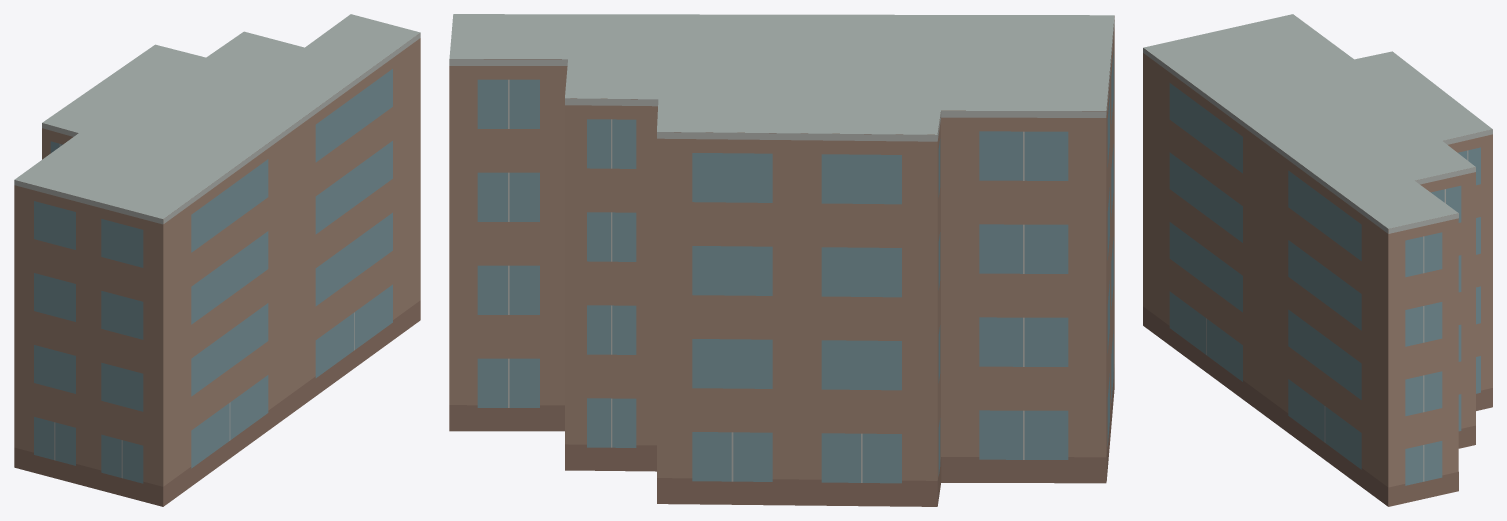
File: survey-upis-32519108.glb
3 renders of one model, left to right at view 1: azimuth 30°, elevation 25°; view 2: azimuth 150°, elevation 25°; view 3: azimuth 270°, elevation 25°, orthographic. The views are drawn at different scales.
Parts seen in each view (by area): view 1: survey-upis-32519108.tmp; view 2: survey-upis-32519108.tmp; view 3: survey-upis-32519108.tmp.
Part boxes in pixels (x1=…): survey-upis-32519108.tmp: x1=14, y1=14, x2=420, y2=506; survey-upis-32519108.tmp: x1=449, y1=14, x2=1114, y2=506; survey-upis-32519108.tmp: x1=1143, y1=14, x2=1492, y2=506.
Size of the model in its own units: 21.89 by 13.2 by 15.06.
